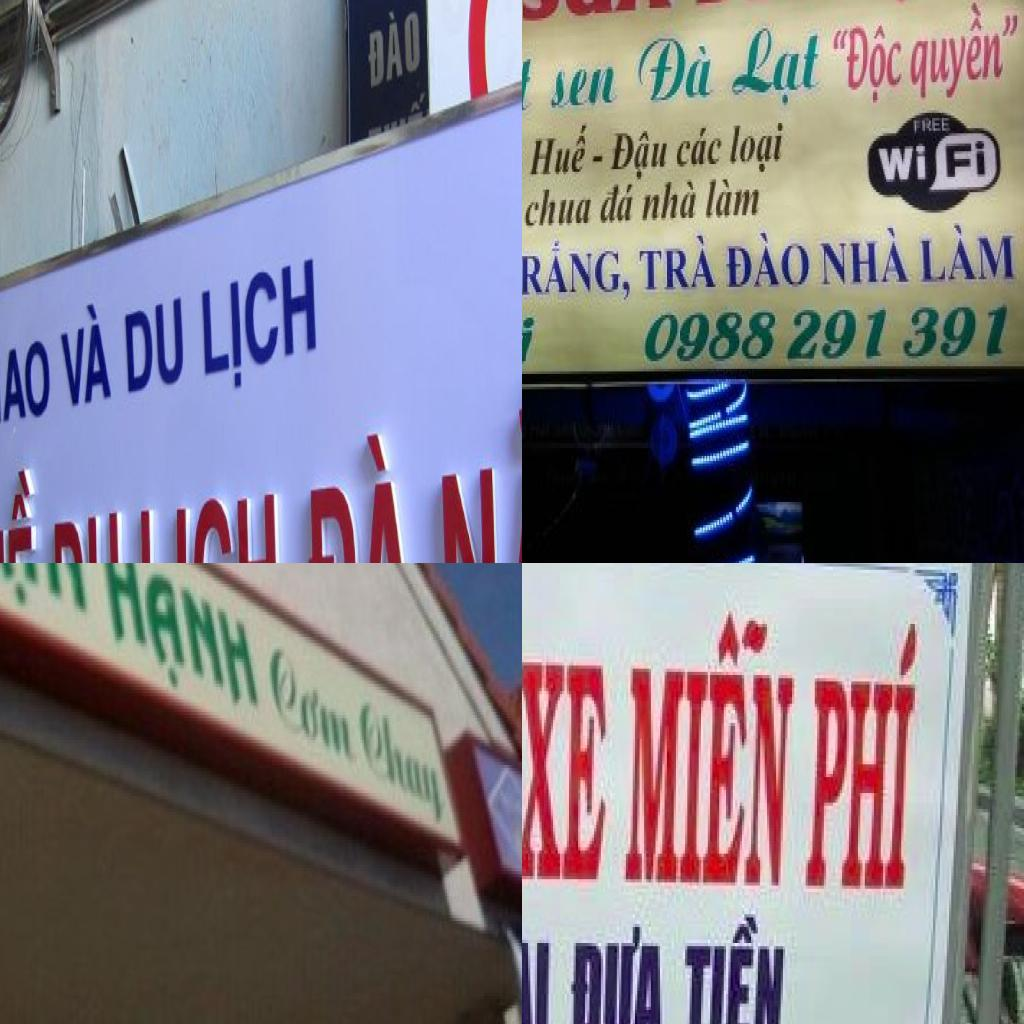text: (621, 605, 801, 895), (801, 614, 929, 902), (640, 297, 1017, 374), (101, 563, 265, 727), (522, 656, 614, 889), (428, 353, 522, 563), (301, 405, 424, 563), (195, 246, 321, 400), (680, 907, 792, 1024), (355, 696, 449, 834), (906, 0, 1024, 107), (269, 640, 362, 774), (137, 487, 286, 563), (566, 920, 669, 1024), (522, 230, 637, 310), (726, 23, 828, 113), (117, 287, 189, 406), (53, 292, 119, 416), (915, 218, 1020, 289), (0, 563, 95, 640), (817, 220, 915, 294), (827, 21, 906, 110), (632, 31, 719, 110), (0, 327, 58, 445), (722, 226, 812, 294), (637, 230, 720, 300), (876, 139, 990, 187), (522, 0, 679, 30), (548, 56, 622, 118), (527, 118, 594, 182), (728, 115, 790, 182), (522, 182, 598, 236), (51, 507, 124, 563), (607, 126, 674, 184), (640, 174, 700, 228), (702, 177, 765, 228), (522, 936, 555, 1024), (673, 120, 726, 174), (598, 180, 638, 230), (522, 46, 542, 130), (522, 312, 541, 376), (912, 118, 954, 138), (589, 154, 607, 169)
